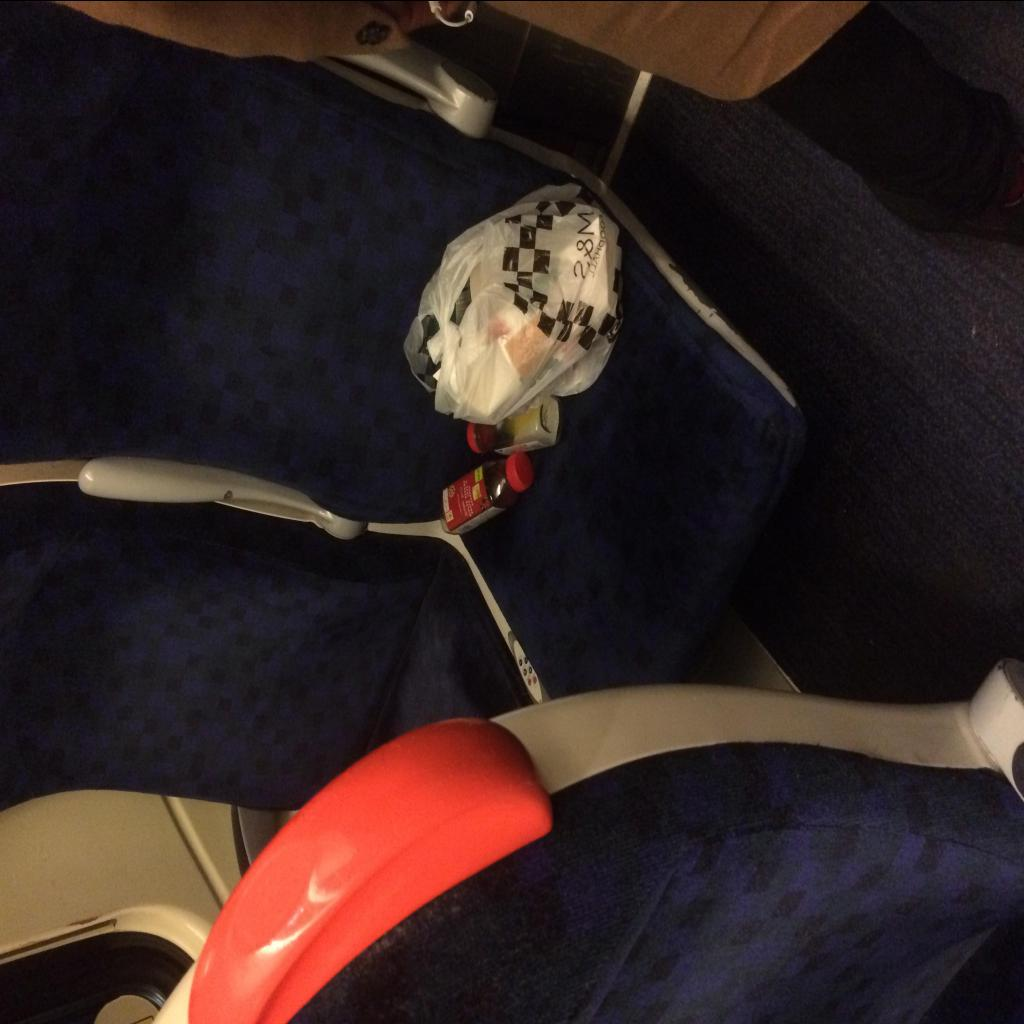Clear plastic bottle: (440, 449, 534, 534), (467, 394, 563, 456)
Plastic bottle cap: (508, 450, 534, 490)
Single-use carrier bag: (404, 183, 624, 424)
